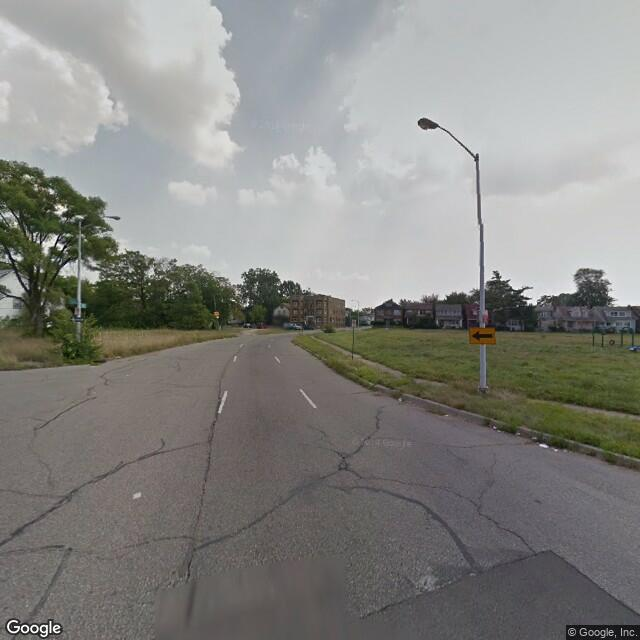litter: (533, 441, 553, 451), (439, 410, 452, 417), (394, 395, 403, 405), (491, 426, 503, 433), (513, 431, 519, 437)
